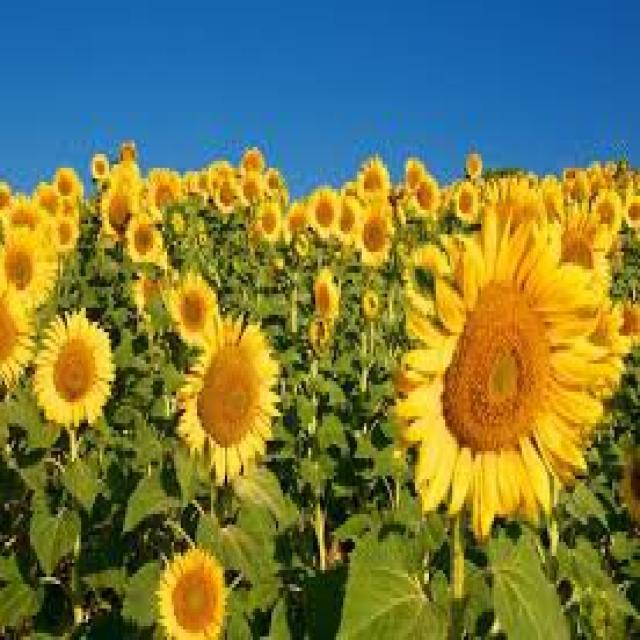sunflower: (392, 203, 607, 538), (174, 311, 280, 483), (32, 308, 116, 427), (153, 546, 225, 636), (576, 289, 628, 400), (0, 224, 56, 308), (164, 269, 216, 343), (556, 206, 614, 270), (0, 287, 35, 388), (357, 203, 392, 266), (123, 210, 160, 262), (354, 154, 390, 203), (306, 185, 339, 238), (102, 180, 135, 232), (146, 164, 181, 210), (134, 268, 164, 321), (313, 270, 339, 318), (595, 188, 622, 234), (623, 447, 640, 520), (6, 201, 43, 234), (252, 200, 280, 242), (452, 178, 478, 220), (413, 174, 440, 214), (210, 159, 233, 198), (238, 172, 264, 205), (58, 170, 83, 202), (286, 201, 306, 239), (218, 178, 240, 210), (56, 216, 77, 249), (38, 184, 58, 217), (406, 157, 422, 193), (625, 193, 640, 229), (92, 154, 106, 177)
